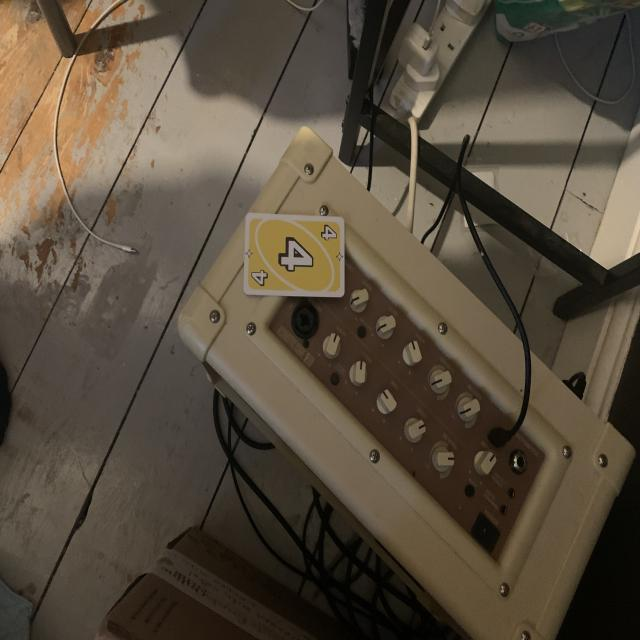lyellow-4: (318, 222, 341, 245)
